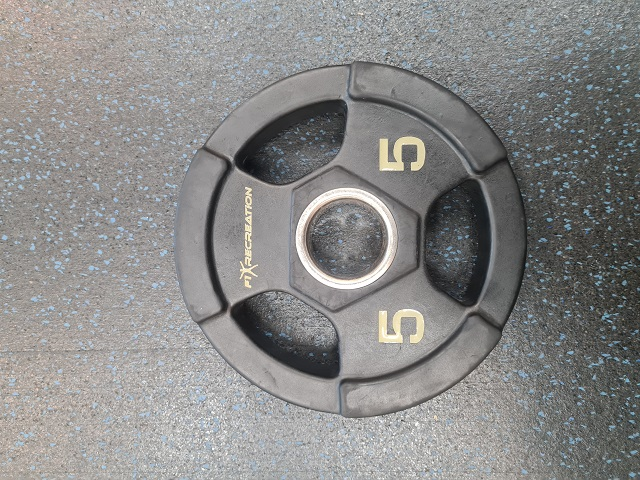weights: (172, 59, 528, 421)
